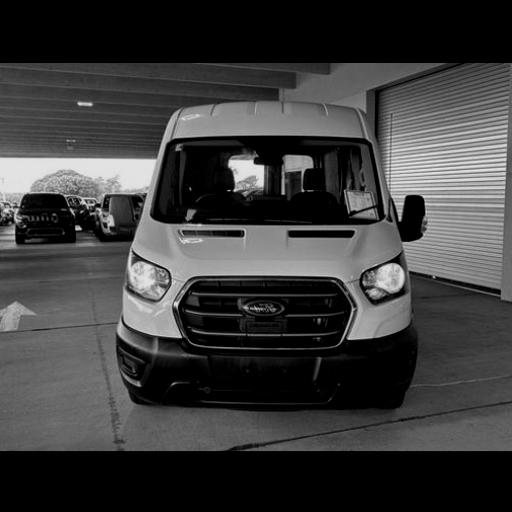sedan: (0, 202, 13, 225)
suv: (17, 192, 75, 244), (94, 194, 144, 240), (66, 195, 91, 228), (0, 201, 16, 221), (84, 197, 98, 211)
van: (117, 101, 425, 408)
